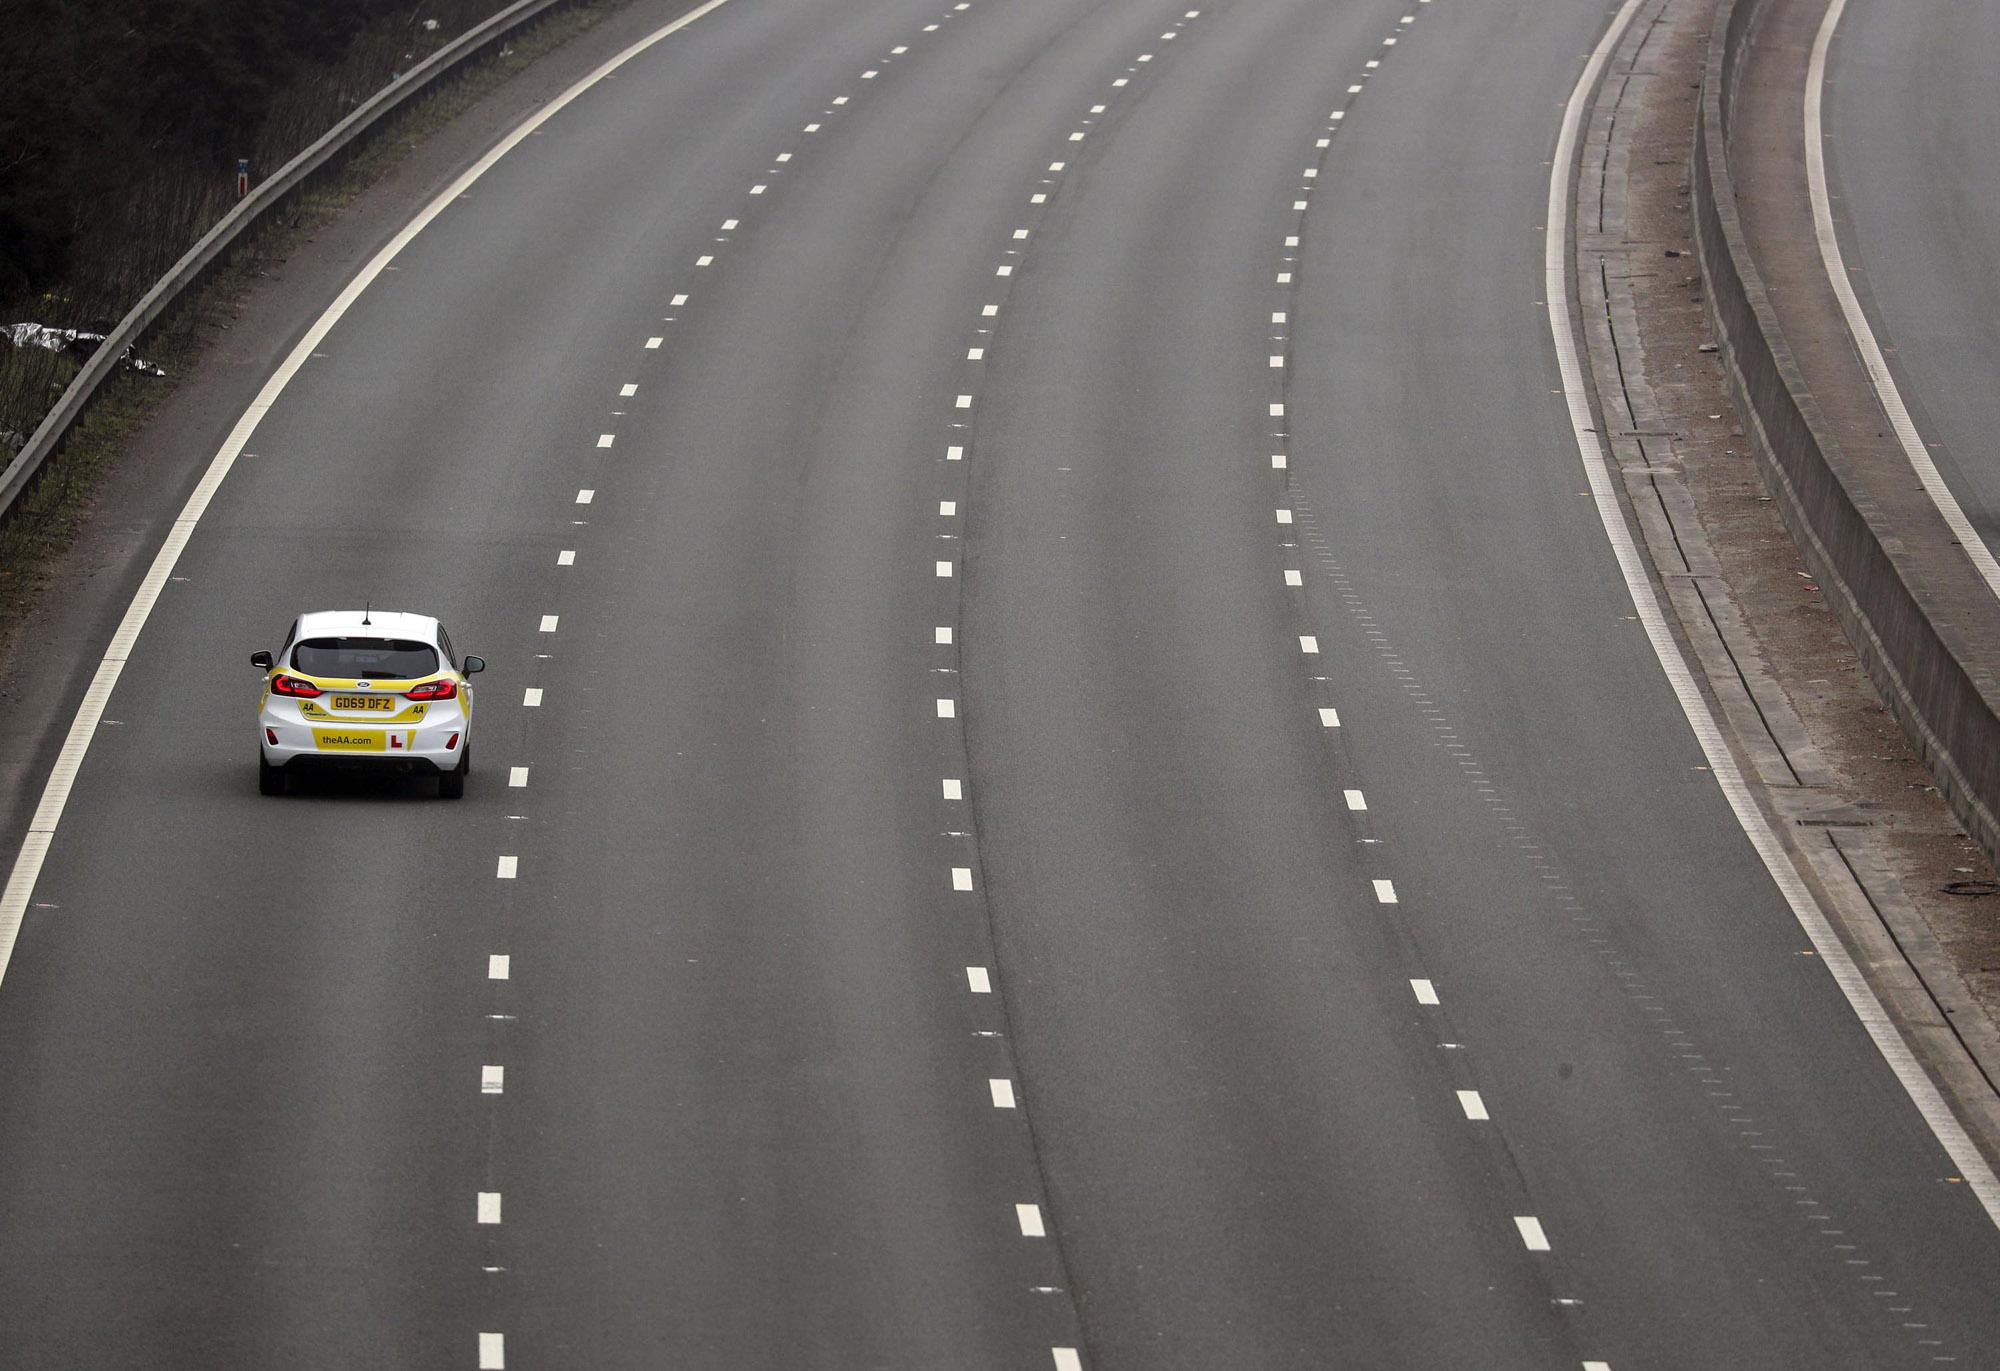car: (167, 526, 597, 883)
